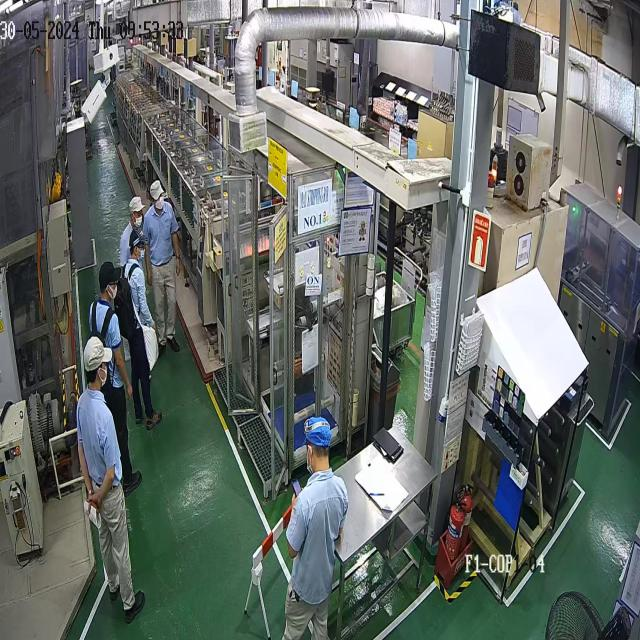Person: (76, 336, 145, 624), (281, 416, 349, 640), (88, 261, 142, 498), (121, 225, 162, 430), (142, 179, 182, 352), (119, 196, 147, 270)
